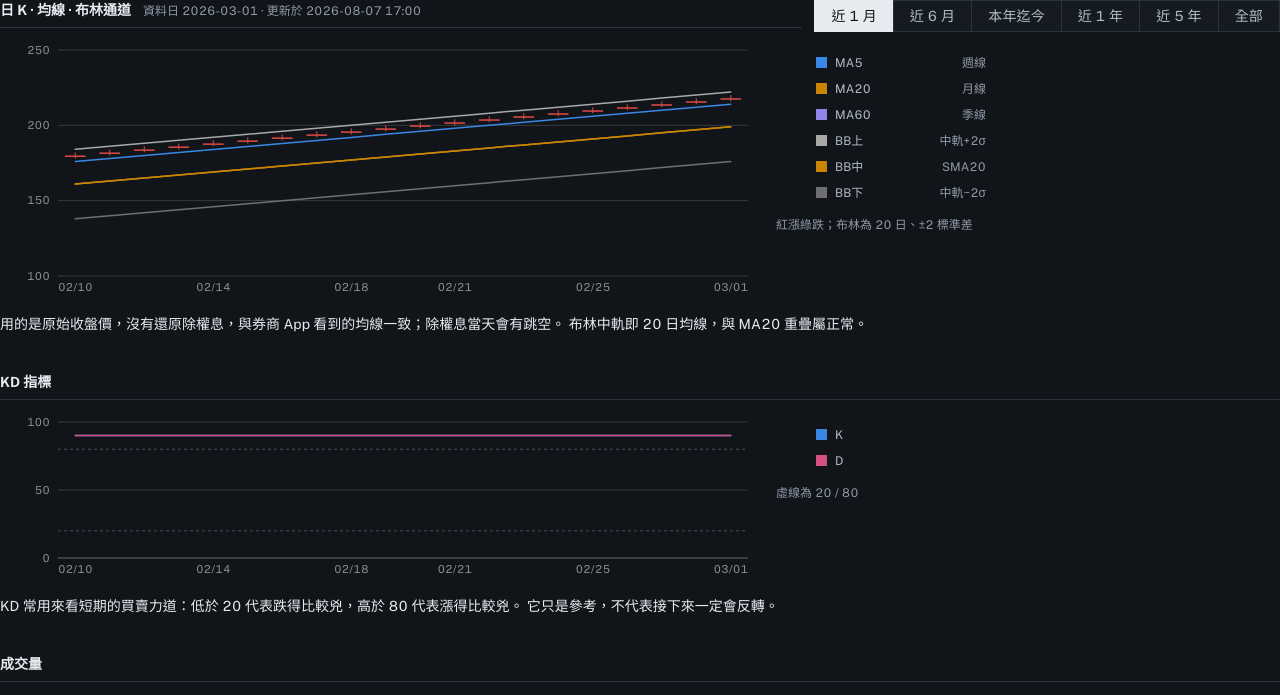
Test case: TechnicalTab 長區間 › 近 5 年切到全部時不可沿用前一個區間的列
What coordinates should you click on to do the following:
click the button "近 5 年"
I would click on:
 (1178, 16)
Its box is top-left (1139, 0), bottom-right (1218, 32).
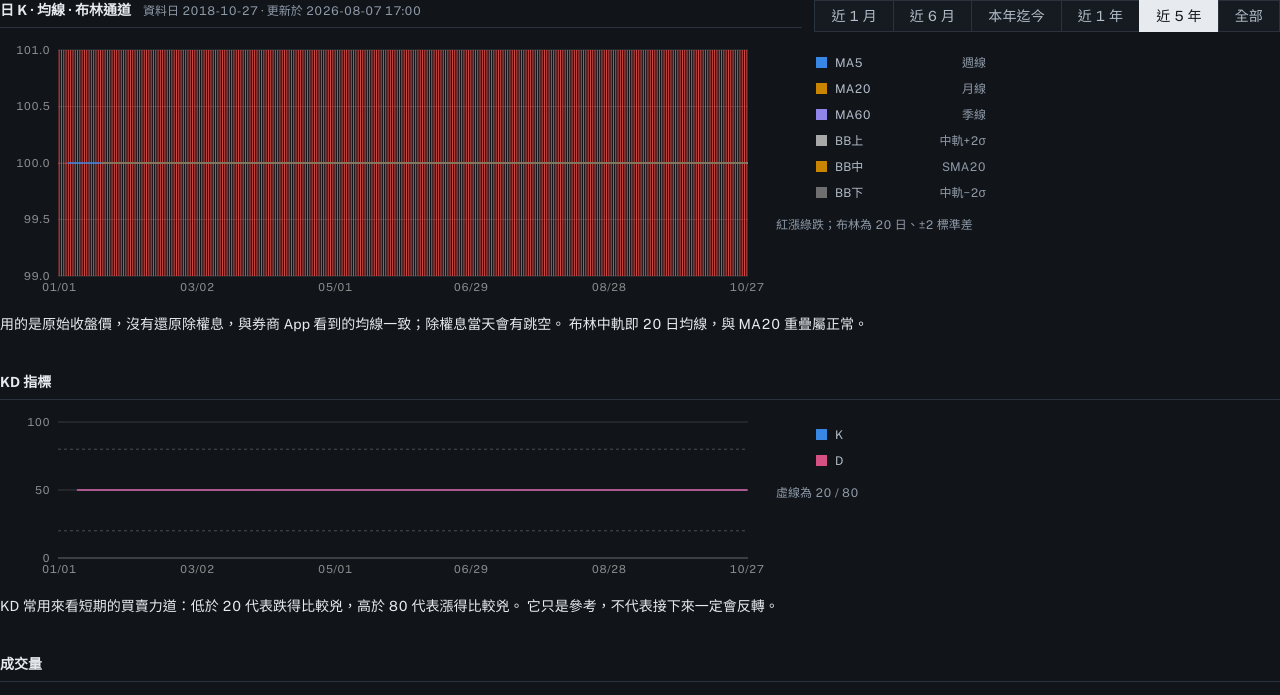
Note: 「全部」的回應還沒回來
What coordinates should you click on to do the following:
click the button "全部"
I would click on:
 (1249, 16)
Its box is top-left (1218, 0), bottom-right (1279, 32).
(page scrolled)
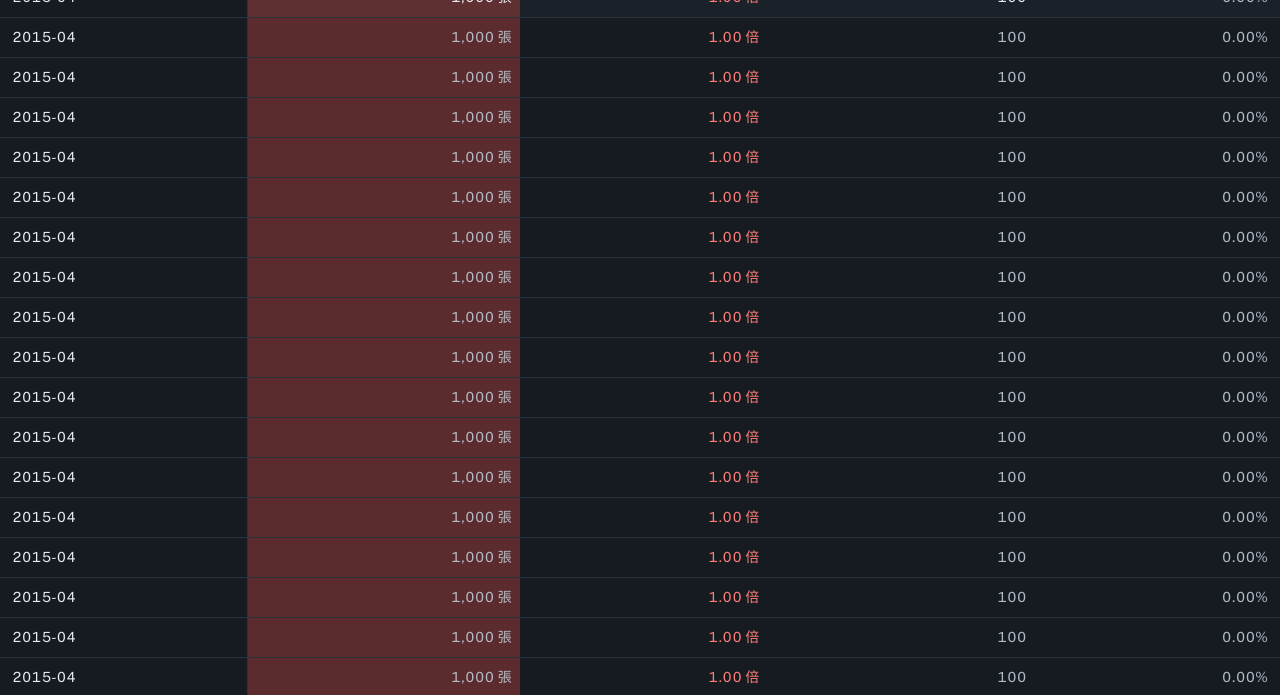
expect the text "每月成交量矩陣" no longer shows "2018-": met
